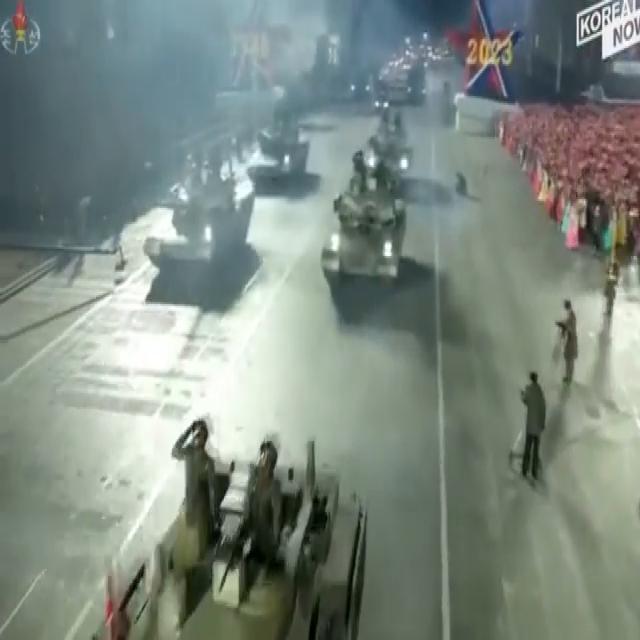north tank: (72, 393, 401, 640), (310, 139, 434, 336), (144, 112, 277, 294)
